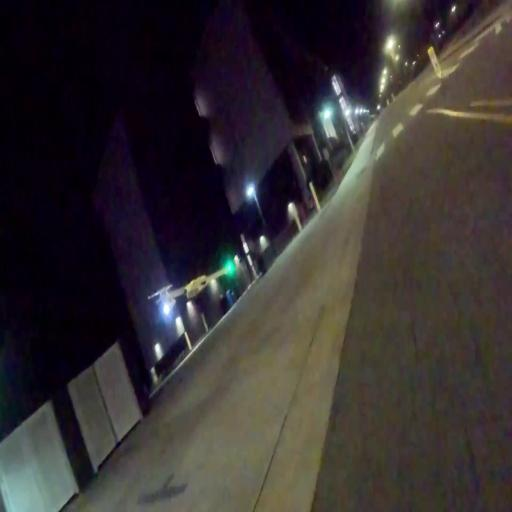uav: (148, 252, 237, 325)
